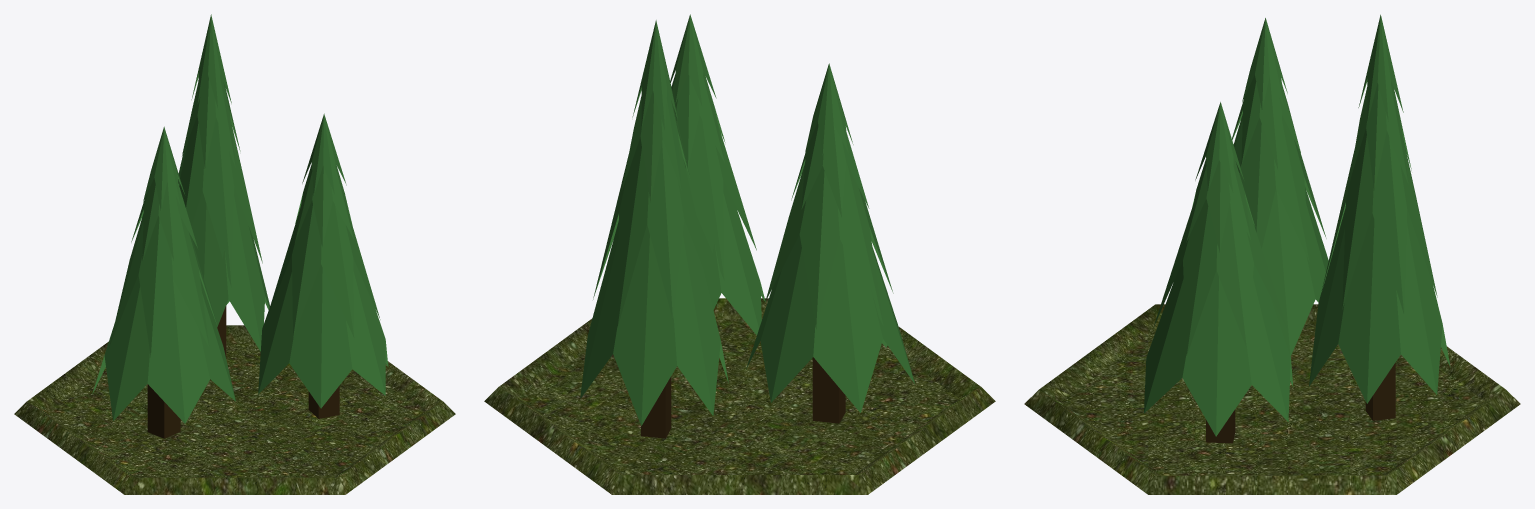
Rendered from forest.glb.
3 renders of one model, left to right at view 1: azimuth 30°, elevation 25°; view 2: azimuth 150°, elevation 25°; view 3: azimuth 270°, elevation 25°, orthographic. The views are drawn at different scales.
Visible parts, largest first — view 1: HexagonTile.003, Tree.001, Tree.005, Tree.004; view 2: HexagonTile.003, Tree.004, Tree.001, Tree.005; view 3: HexagonTile.003, Tree.004, Tree.005, Tree.001.
Part boxes in pixels (bbox=[...]): HexagonTile.003: bbox=[14, 325, 455, 494]; Tree.001: bbox=[92, 126, 235, 438]; Tree.005: bbox=[258, 113, 388, 418]; Tree.004: bbox=[178, 14, 269, 358]; HexagonTile.003: bbox=[484, 298, 995, 494]; Tree.004: bbox=[580, 20, 728, 438]; Tree.001: bbox=[746, 63, 914, 423]; Tree.005: bbox=[670, 14, 765, 335]; HexagonTile.003: bbox=[1024, 304, 1520, 494]; Tree.004: bbox=[1309, 14, 1450, 420]; Tree.005: bbox=[1144, 102, 1293, 443]; Tree.001: bbox=[1232, 18, 1328, 355].
Bounding box in the file's own units: 1.73 × 1.87 × 2.
3 materials, 1 textured.
